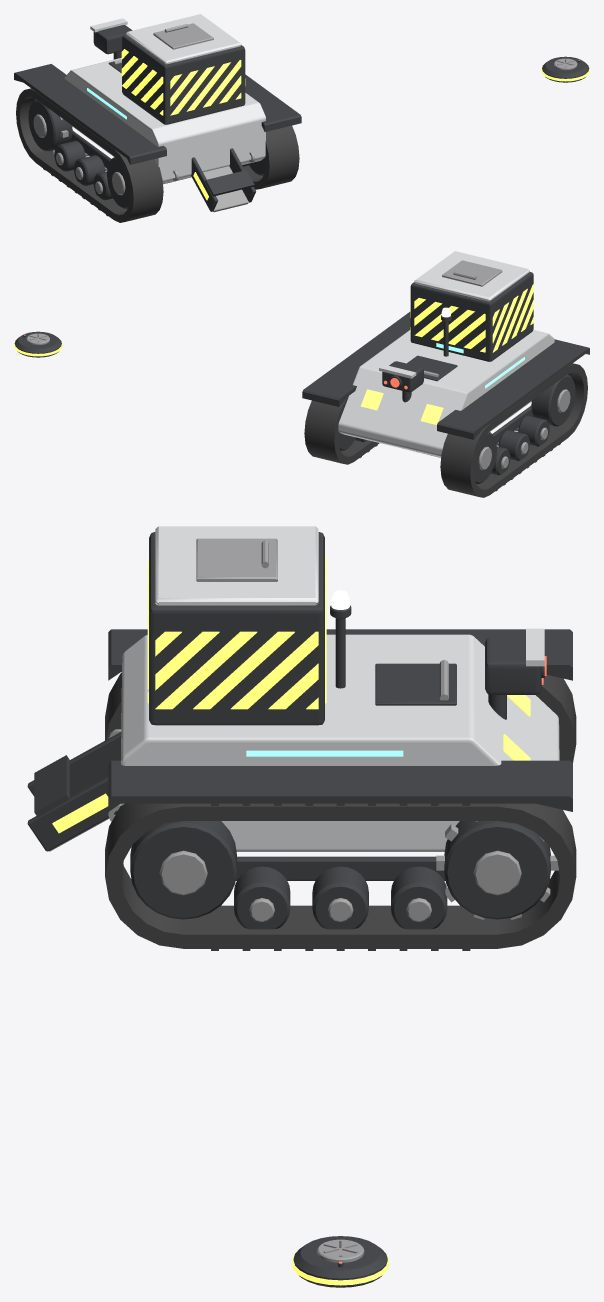
Rendered from minelayer.glb.
The picture shows the model from 3 angles, top to bottom: view 1: azimuth 30°, elevation 25°; view 2: azimuth 150°, elevation 25°; view 3: azimuth 270°, elevation 25°; orthographic projection. The views are drawn at different scales.
Parts seen in each view (by area): view 1: hull, hopper, tread_l, chute, tread_r, mine, eye; view 2: hull, hopper, tread_l, tread_r, eye, mine, lamp; view 3: hull, tread_r, hopper, chute, mine, eye, tread_l, lamp.
Part boxes in pixels (left/top/right/bottom): hull: left=14, top=51, right=301, bottom=184; hopper: left=121, top=14, right=245, bottom=124; tread_l: left=16, top=88, right=163, bottom=222; chute: left=191, top=148, right=256, bottom=212; tread_r: left=242, top=125, right=299, bottom=189; mine: left=541, top=56, right=589, bottom=82; eye: left=90, top=18, right=132, bottom=54; hull: left=302, top=312, right=589, bottom=457; hopper: left=410, top=251, right=533, bottom=361; tread_l: left=440, top=363, right=587, bottom=497; tread_r: left=304, top=396, right=379, bottom=464; eye: left=379, top=361, right=423, bottom=392; mine: left=14, top=331, right=62, bottom=357; lamp: left=441, top=307, right=451, bottom=356; hull: left=108, top=629, right=572, bottom=851; tread_r: left=105, top=803, right=576, bottom=950; hopper: left=147, top=526, right=326, bottom=725; chute: left=27, top=732, right=121, bottom=851; mine: left=292, top=1236, right=389, bottom=1287; eye: left=485, top=628, right=546, bottom=694; tread_l: left=105, top=673, right=576, bottom=762; lamp: left=330, top=590, right=351, bottom=688.
Size of what is drawn, in the model's own units: 3.78 by 1.12 by 1.75.
